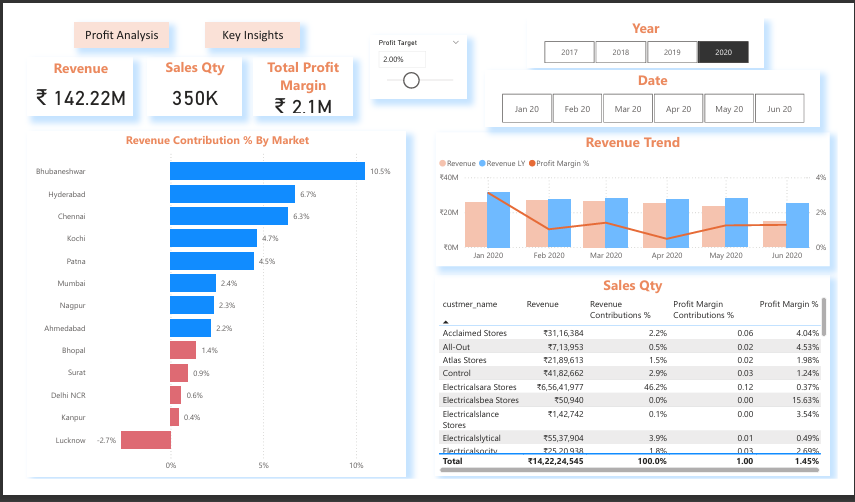

The dashboard page shown, as its layout file describes it:
{"tool":"powerbi","page":{"name":"Profit Analysis","canvas":[1280,720],"ordinal":1},"visuals":[{"type":"card","title":"Revenue","fields":{"Values":["Base_measure.Revenue"]},"box":[14.7,51.4,165.1,99],"z":0},{"type":"card","title":"Sales Qty","fields":{"Values":["Base_measure.sales Qty"]},"box":[199.3,51.4,148,99],"z":1000},{"type":"barChart","title":"Profit % By Markets","fields":{"Y":["Base_measure.Profit Margin %"],"Category":["sales markets.markets_name"]},"box":[428.1,166,212.7,550.3],"z":2000},{"type":"barChart","title":"Profit Contribution % By Market","fields":{"Y":["Base_measure.Total Profit Margin"],"Category":["sales markets.markets_name"]},"box":[227.8,166,200.3,550.3],"z":3000},{"type":"slicer","title":"Year ","fields":{"Values":["sales date.year"]},"box":[534.3,10,350,100],"z":4000},{"type":"slicer","title":"Date","fields":{"Values":["sales date.cy_date"]},"box":[905.7,9.6,362.3,100.2],"z":5000},{"type":"tableEx","title":"Sales Qty","fields":{"Values":["sales customers.custmer_name","Base_measure.Revenue","Base_measure.Revenue Contributions %","Base_measure.Profit Margin Contributions %","Base_measure.Profit Margin %"]},"box":[651.8,402.1,616.1,314.2],"z":6000},{"type":"lineChart","title":"Revenue Trend","fields":{"Y":["Base_measure.Revenue"],"Category":["sales date.cy_date"]},"box":[651.8,137.2,616.1,251.1],"z":8000},{"type":"card","title":"Total Profit Margin","fields":{"Values":["Base_measure.Total Profit Margin"]},"box":[365.6,44,156.5,113.7],"z":9000},{"type":"barChart","title":"Revenue Contribution % By Market","fields":{"Y":["Base_measure.Revenue Contributions %"],"Category":["sales markets.markets_name"]},"box":[15.1,166,200.3,550.3],"z":10000},{"type":"actionButton","box":[68.5,3.7,146.7,40.4],"z":10001},{"type":"actionButton","box":[238.5,3.7,205.4,40.4],"z":10002}]}

Visuals, with their boxes on the page's 1280x720 design canvas (x1, y1, x2, y2). These are canvas units, not pixel positions in the 855x502 screenshot, which may show the page scaled, cropped or inside an application window:
"Revenue" card: box(15, 51, 180, 150)
"Sales Qty" card: box(199, 51, 347, 150)
"Profit % By Markets" barChart: box(428, 166, 641, 716)
"Profit Contribution % By Market" barChart: box(228, 166, 428, 716)
"Year " slicer: box(534, 10, 884, 110)
"Date" slicer: box(906, 10, 1268, 110)
"Sales Qty" tableEx: box(652, 402, 1268, 716)
"Revenue Trend" lineChart: box(652, 137, 1268, 388)
"Total Profit Margin" card: box(366, 44, 522, 158)
"Revenue Contribution % By Market" barChart: box(15, 166, 215, 716)
actionButton: box(68, 4, 215, 44)
actionButton: box(238, 4, 444, 44)
